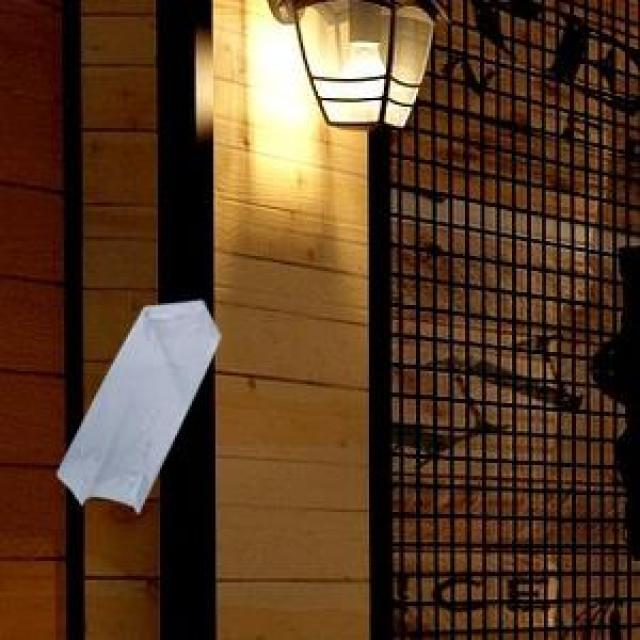waste: (58, 300, 220, 512)
